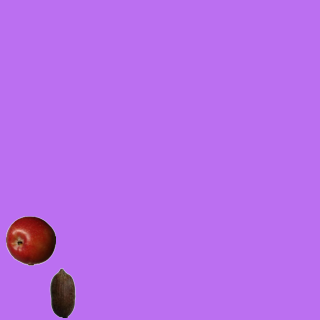Apple Braeburn: (5, 215, 55, 265)
Nut Pecan: (37, 267, 87, 317)
